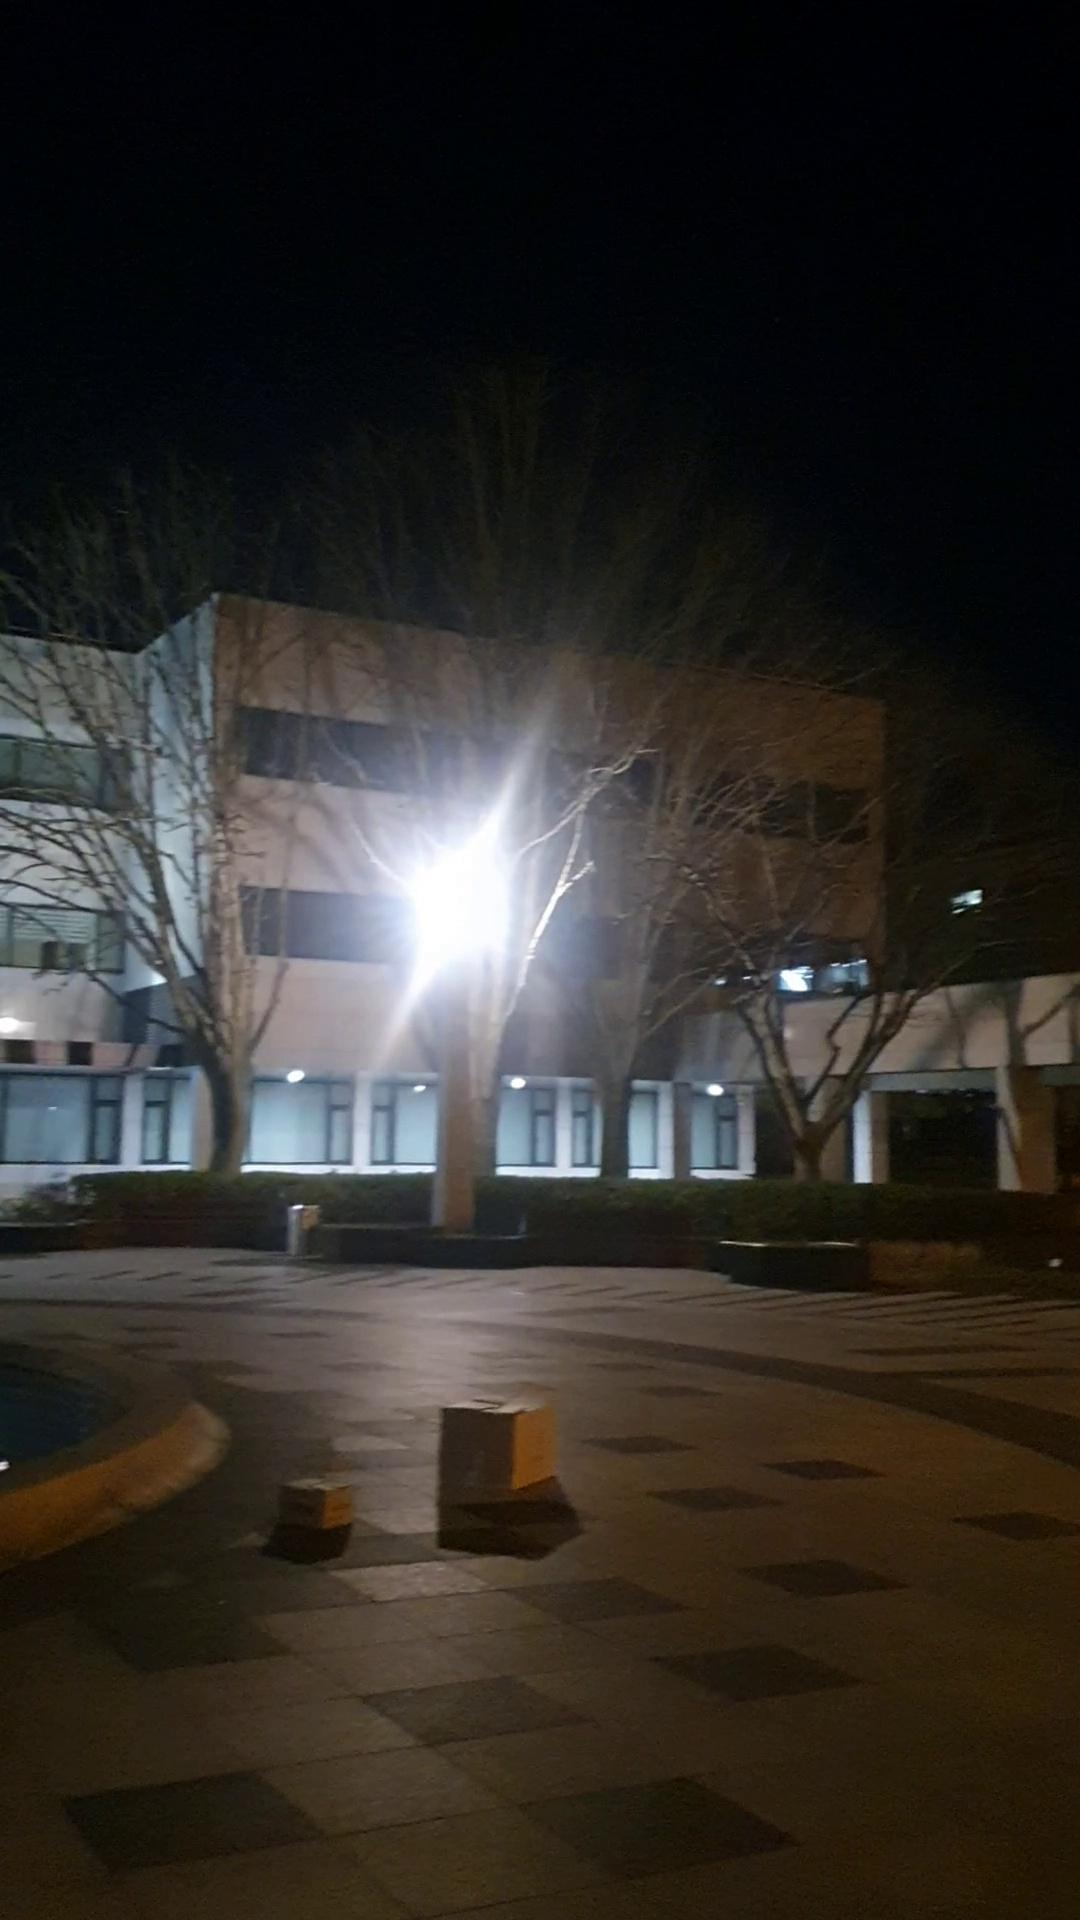Box: (421, 1373, 575, 1534), (266, 1468, 348, 1534)
